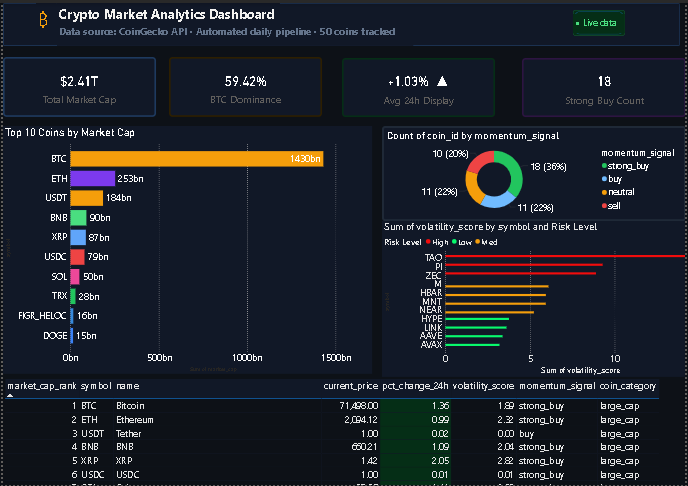

This screenshot's page, from the dashboard's own definition file:
{"tool":"powerbi","page":{"name":"Page 1","canvas":[1700,1200],"ordinal":0},"visuals":[{"type":"group","id":"g1","title":"Group 1","box":[0,0,1685.5,107.1],"z":0},{"type":"shape","box":[0,0,1685.5,107.1],"z":0,"group":"g1"},{"type":"textbox","box":[134.8,0,555.2,83.7],"z":1000,"group":"g1"},{"type":"card","fields":{"Values":["crypto_latest.Total Market Cap"]},"box":[0,134.4,380.9,149.4],"z":1000},{"type":"textbox","box":[134.8,50.1,887.2,56.9],"z":2000,"group":"g1"},{"type":"card","fields":{"Values":["crypto_latest.BTC Dominance %"]},"box":[413.3,134.4,380.9,149.4],"z":2000},{"type":"shape","box":[1418.5,18.2,129.4,63.7],"z":3000,"group":"g1"},{"type":"card","fields":{"Values":["crypto_latest.Avg 24h Change"]},"box":[844,136.9,380.9,146.9],"z":3000},{"type":"textbox","box":[1418.5,27.3,129.4,47.8],"z":4000,"group":"g1"},{"type":"card","fields":{"Values":["crypto_latest.Strong Buy Count"]},"box":[1292.1,136.9,408.3,146.9],"z":4000},{"type":"textbox","box":[83.3,0,51.6,83.8],"z":5000,"group":"g1"},{"type":"clusteredBarChart","title":"Top 10 Coins by Market Cap","fields":{"Category":["crypto_latest.symbol"],"Y":["Sum(crypto_latest.market_cap)"]},"box":[0,306.2,918.7,617.4],"z":5000},{"type":"donutChart","fields":{"Category":["crypto_latest.momentum_signal"],"Y":["CountNonNull(crypto_latest.coin_id)"]},"box":[943.6,306.2,756.8,236.5],"z":6000},{"type":"tableEx","fields":{"Values":["crypto_latest.market_cap_rank","crypto_latest.symbol","crypto_latest.name","crypto_latest.current_price","crypto_latest.pct_change_24h","crypto_latest.volatility_score","crypto_latest.momentum_signal","crypto_latest.coin_category"]},"box":[0,931.1,1800,341.1],"z":7000},{"type":"clusteredBarChart","fields":{"Category":["crypto_latest.symbol"],"Y":["Sum(crypto_latest.volatility_score)"],"Series":["crypto_latest.Risk Level"]},"box":[943.6,542.7,856.4,388.4],"z":8000}]}

Visuals, with their boxes in screenshot pixels (x1, y1, x2, y2), scaled from the page's 1700x1200 canvas onto the 688x486 screenshot:
"Group 1" group: <bbox>0, 0, 682, 43</bbox>
shape: <bbox>0, 0, 682, 43</bbox>
textbox: <bbox>55, 0, 279, 34</bbox>
card - crypto_latest.Total Market Cap: <bbox>0, 54, 154, 115</bbox>
textbox: <bbox>55, 20, 414, 43</bbox>
card - crypto_latest.BTC Dominance %: <bbox>167, 54, 321, 115</bbox>
shape: <bbox>574, 7, 626, 33</bbox>
card - crypto_latest.Avg 24h Change: <bbox>342, 55, 496, 115</bbox>
textbox: <bbox>574, 11, 626, 30</bbox>
card - crypto_latest.Strong Buy Count: <bbox>523, 55, 687, 115</bbox>
textbox: <bbox>34, 0, 55, 34</bbox>
"Top 10 Coins by Market Cap" clusteredBarChart: <bbox>0, 124, 372, 374</bbox>
donutChart - crypto_latest.momentum_signal x CountNonNull(crypto_latest.coin_id): <bbox>382, 124, 687, 220</bbox>
tableEx - crypto_latest.market_cap_rank x crypto_latest.symbol: <bbox>0, 377, 687, 485</bbox>
clusteredBarChart - crypto_latest.symbol x Sum(crypto_latest.volatility_score): <bbox>382, 220, 687, 377</bbox>
